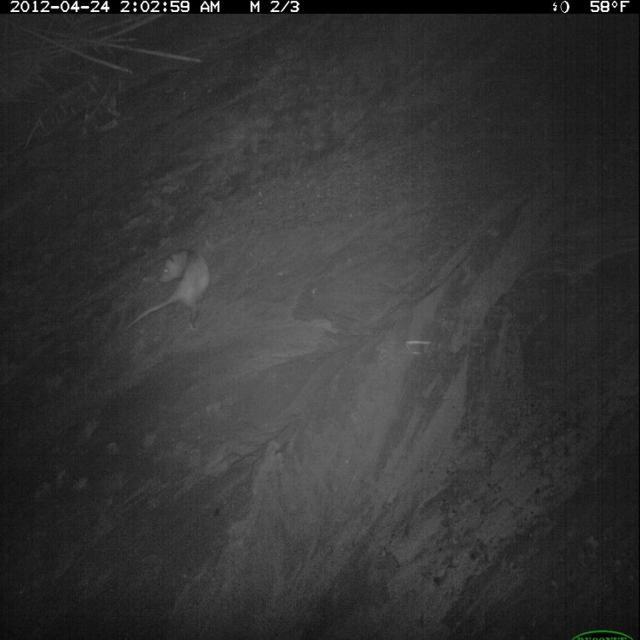opossum: (127, 244, 217, 336)
